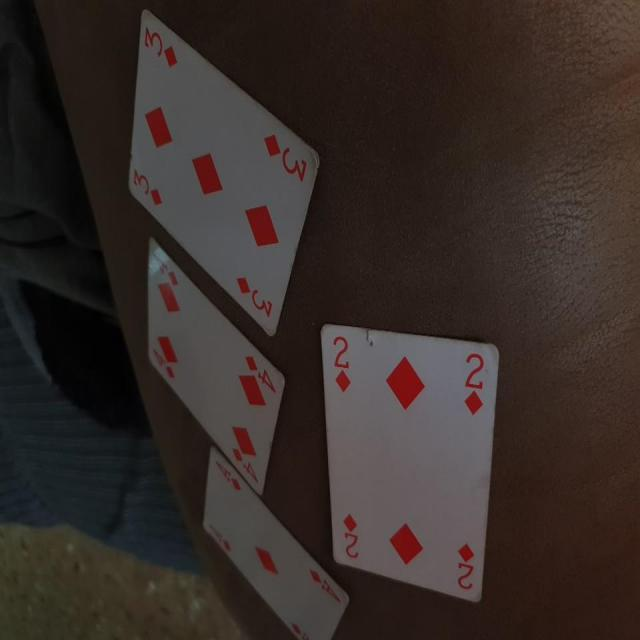2 Diamonds: (320, 321, 505, 606)
3 Diamonds: (116, 6, 324, 345)
4 Diamonds: (142, 236, 288, 496)
A Diamonds: (192, 441, 348, 638)
